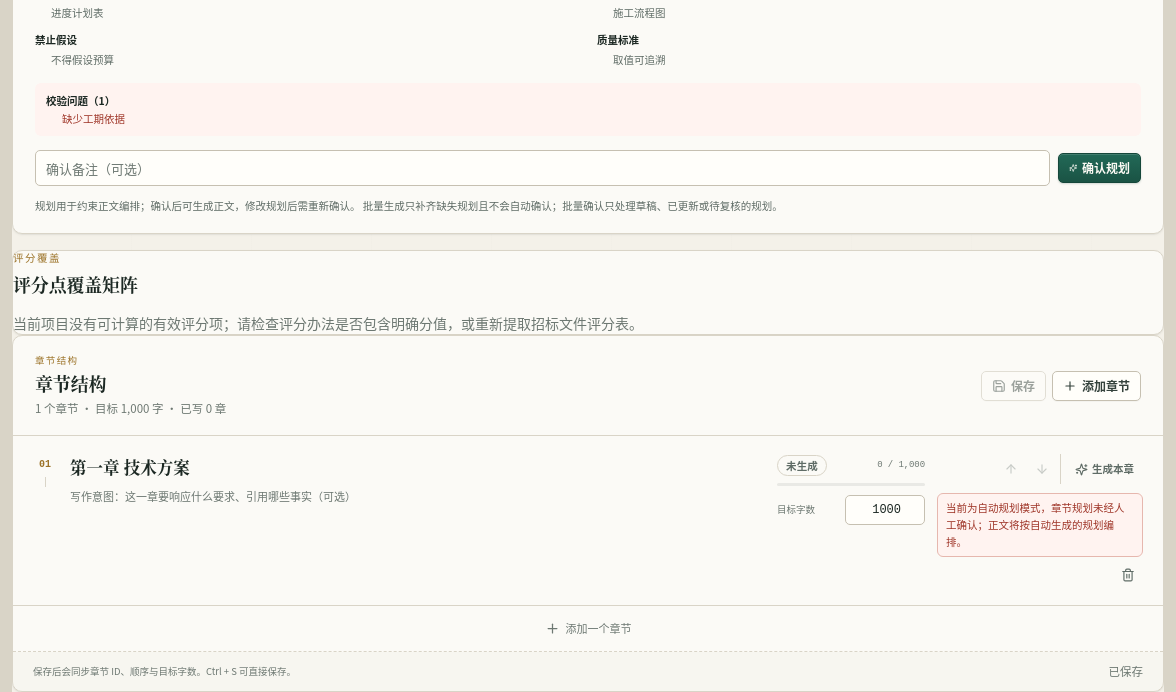
Test: OutlineTab chapter planning panel › disables batch planning while the outline has unsaved changes
This screenshot has width=1176, height=692.
(page scrolled)
Replace the text in the field named "第 1 章标题" with "改名后的章节": (417, 467) x1=63 y1=451 x2=771 y2=483
(page scrolled)
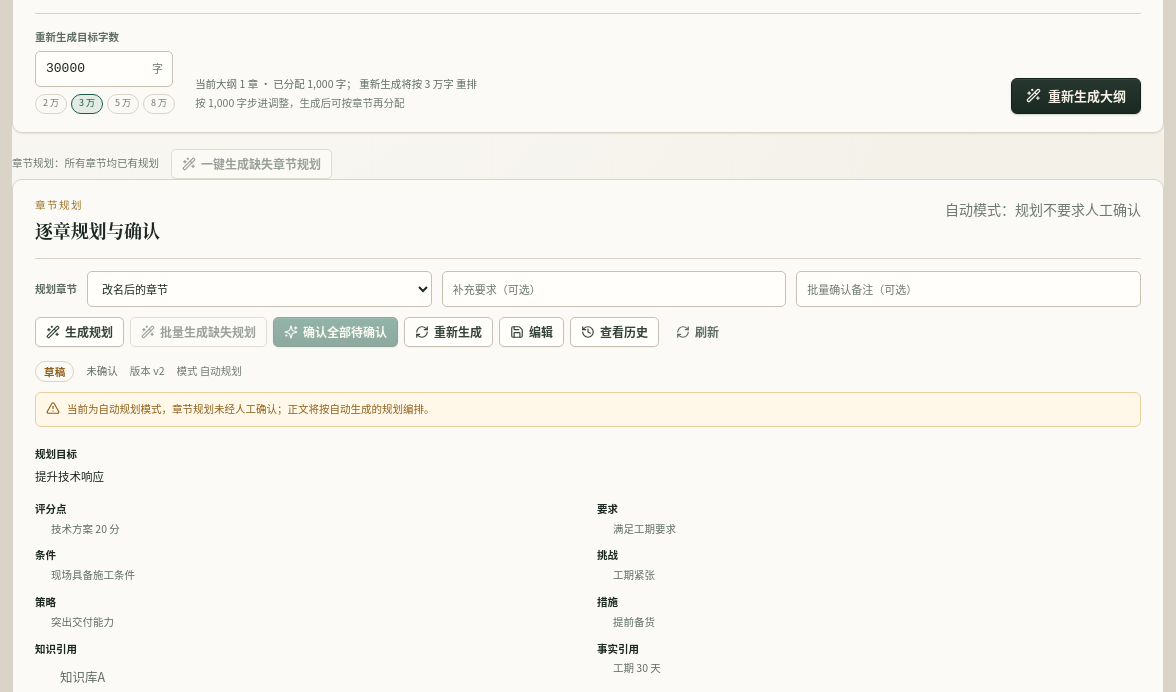
expect the button "一键生成缺失章节规划" is disabled: met, box x1=171 y1=149 x2=332 y2=179
expect the button "批量生成缺失规划" is disabled: met, box x1=130 y1=317 x2=267 y2=347
expect the button "确认全部待确认" is disabled: met, box x1=273 y1=317 x2=398 y2=347
